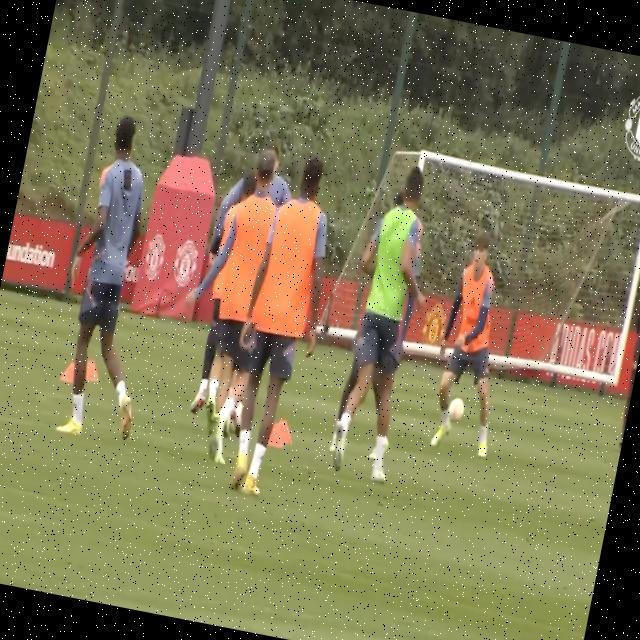Adidas: (467, 293, 480, 313)
